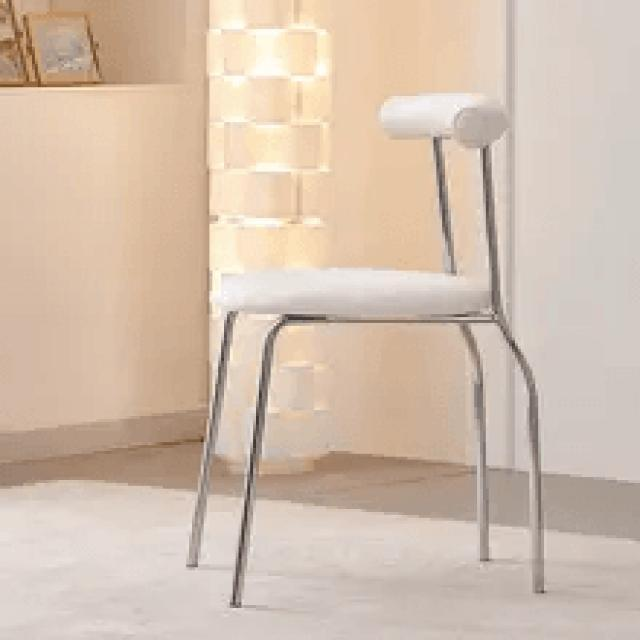chair: (182, 80, 554, 616), (186, 64, 564, 368)
